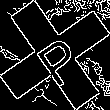P_NW: (25, 24, 85, 86)
